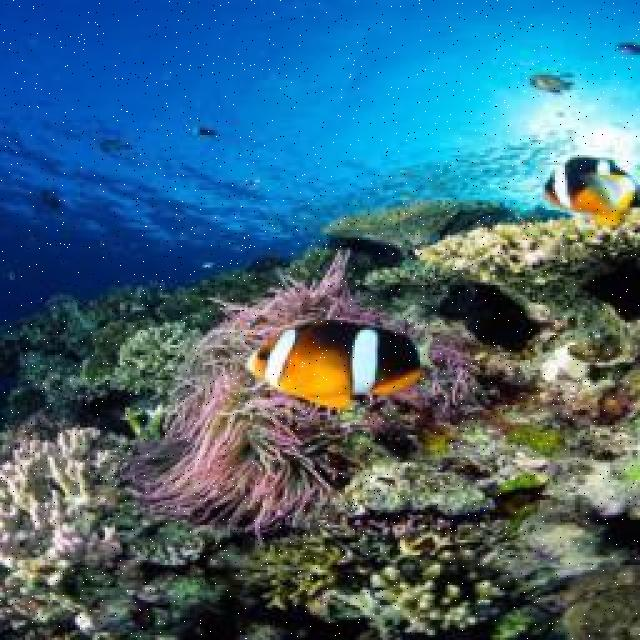fish: (243, 320, 430, 409), (541, 155, 638, 231)
reefs: (106, 244, 484, 548), (0, 428, 133, 638)
